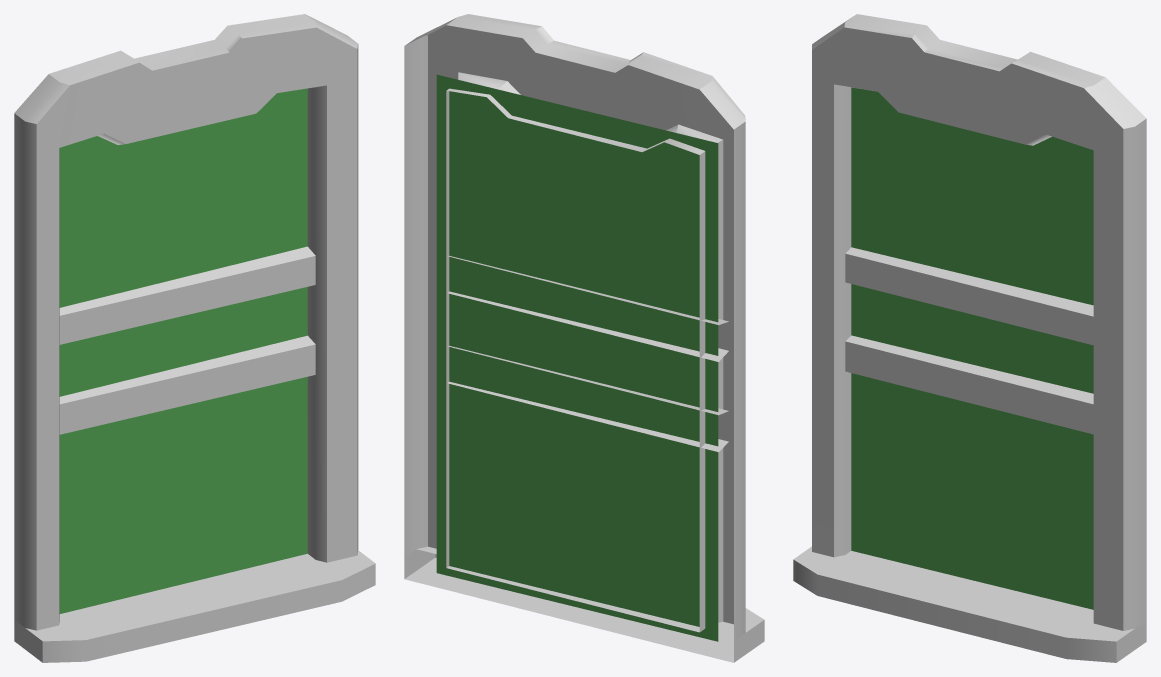
The model's file is StreetWindow_Portal.fbx.
The picture shows the model from 3 angles, left to right: view 1: azimuth 30°, elevation 25°; view 2: azimuth 150°, elevation 25°; view 3: azimuth 330°, elevation 25°; orthographic projection.
Parts seen in each view (by area): view 1: StreetWindow_Frame, StreetWindow_Portal; view 2: StreetWindow_Portal, StreetWindow_Frame; view 3: StreetWindow_Frame, StreetWindow_Portal.
Boxes of the visible parts, x1,y1,x2,y2 form: StreetWindow_Frame: [14, 14, 375, 662]; StreetWindow_Portal: [59, 88, 307, 613]; StreetWindow_Portal: [436, 74, 718, 641]; StreetWindow_Frame: [404, 14, 764, 662]; StreetWindow_Frame: [793, 14, 1146, 662]; StreetWindow_Portal: [851, 87, 1093, 609].
Size of the model in its own units: 92.1 by 151 by 20.03.
